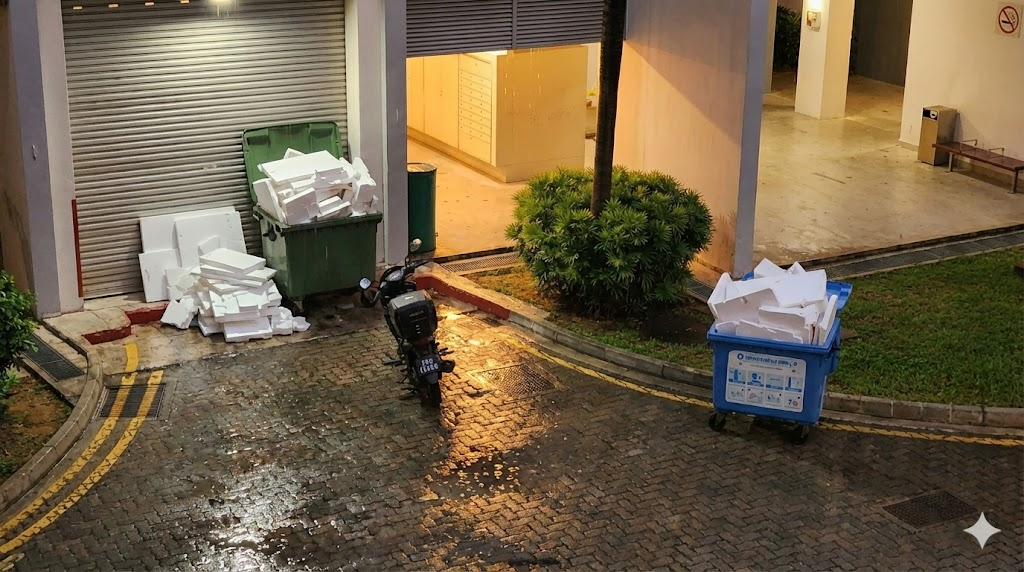bin_empty: (408, 163, 436, 252), (918, 105, 957, 164)
bin_full: (243, 121, 382, 304), (708, 263, 851, 425)
bulk_waste: (161, 248, 308, 341), (139, 207, 225, 300), (174, 208, 246, 265)
vehicle: (361, 255, 455, 405)
